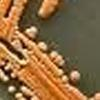orange: (68, 68, 81, 84), (6, 84, 17, 94), (53, 53, 62, 64), (56, 58, 65, 68), (49, 49, 57, 60), (13, 92, 25, 99), (30, 25, 39, 34), (24, 27, 33, 36), (27, 31, 36, 39), (19, 84, 27, 93), (24, 87, 31, 96), (3, 74, 9, 84), (9, 72, 16, 80), (37, 40, 44, 48), (30, 95, 41, 100), (94, 91, 100, 100), (3, 65, 10, 72), (41, 43, 47, 51), (0, 71, 5, 80), (0, 60, 6, 67), (29, 90, 34, 97), (17, 97, 28, 100), (88, 97, 96, 100), (0, 67, 2, 78)
